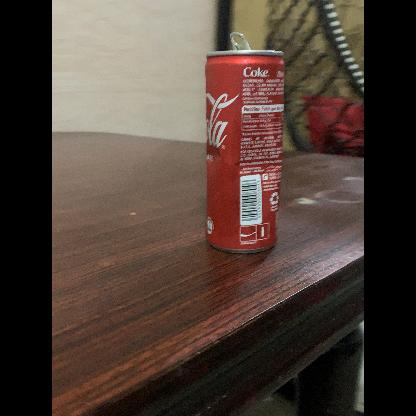Dent_Can: (234, 154, 282, 180), (220, 153, 247, 173), (206, 145, 221, 165)
Lid_Open: (225, 29, 259, 57)
Tin_Can: (194, 31, 290, 258)
